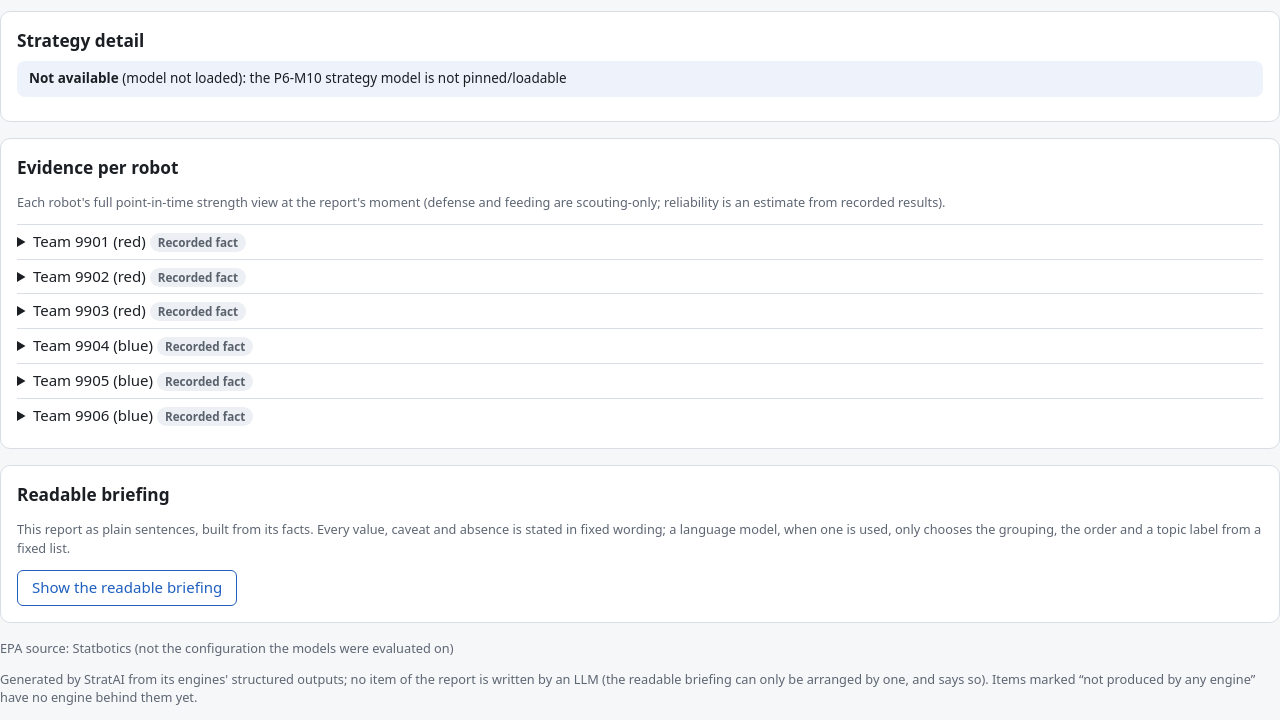
it: BriefingPanel (P9-M5) › passes an explicit as_of through, and says so when the briefing's moment differs from the report's
(page scrolled)
Click the button "Show the readable briefing": point(127, 588) [17,570,237,606]
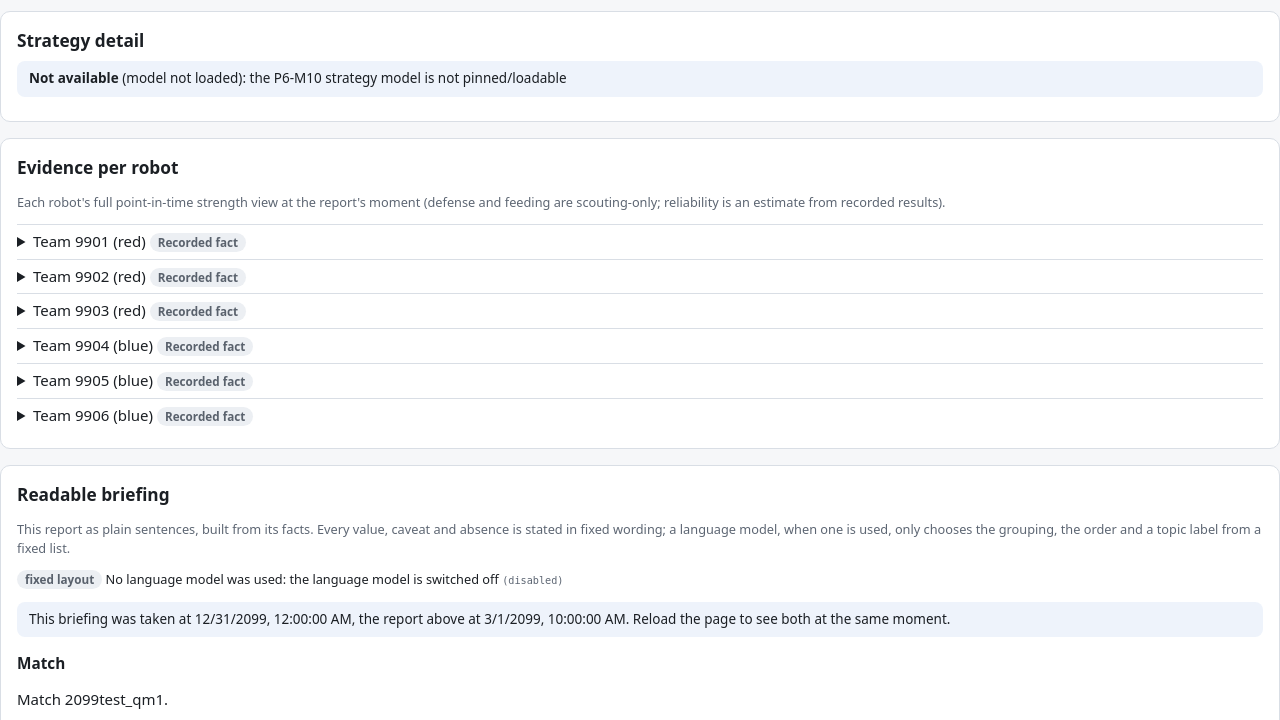
Expected: the text "This briefing was taken at" is shown, [29,610,195,628]
